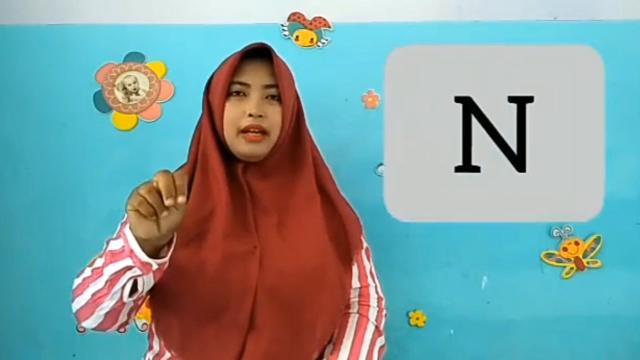N: (121, 166, 189, 246)
